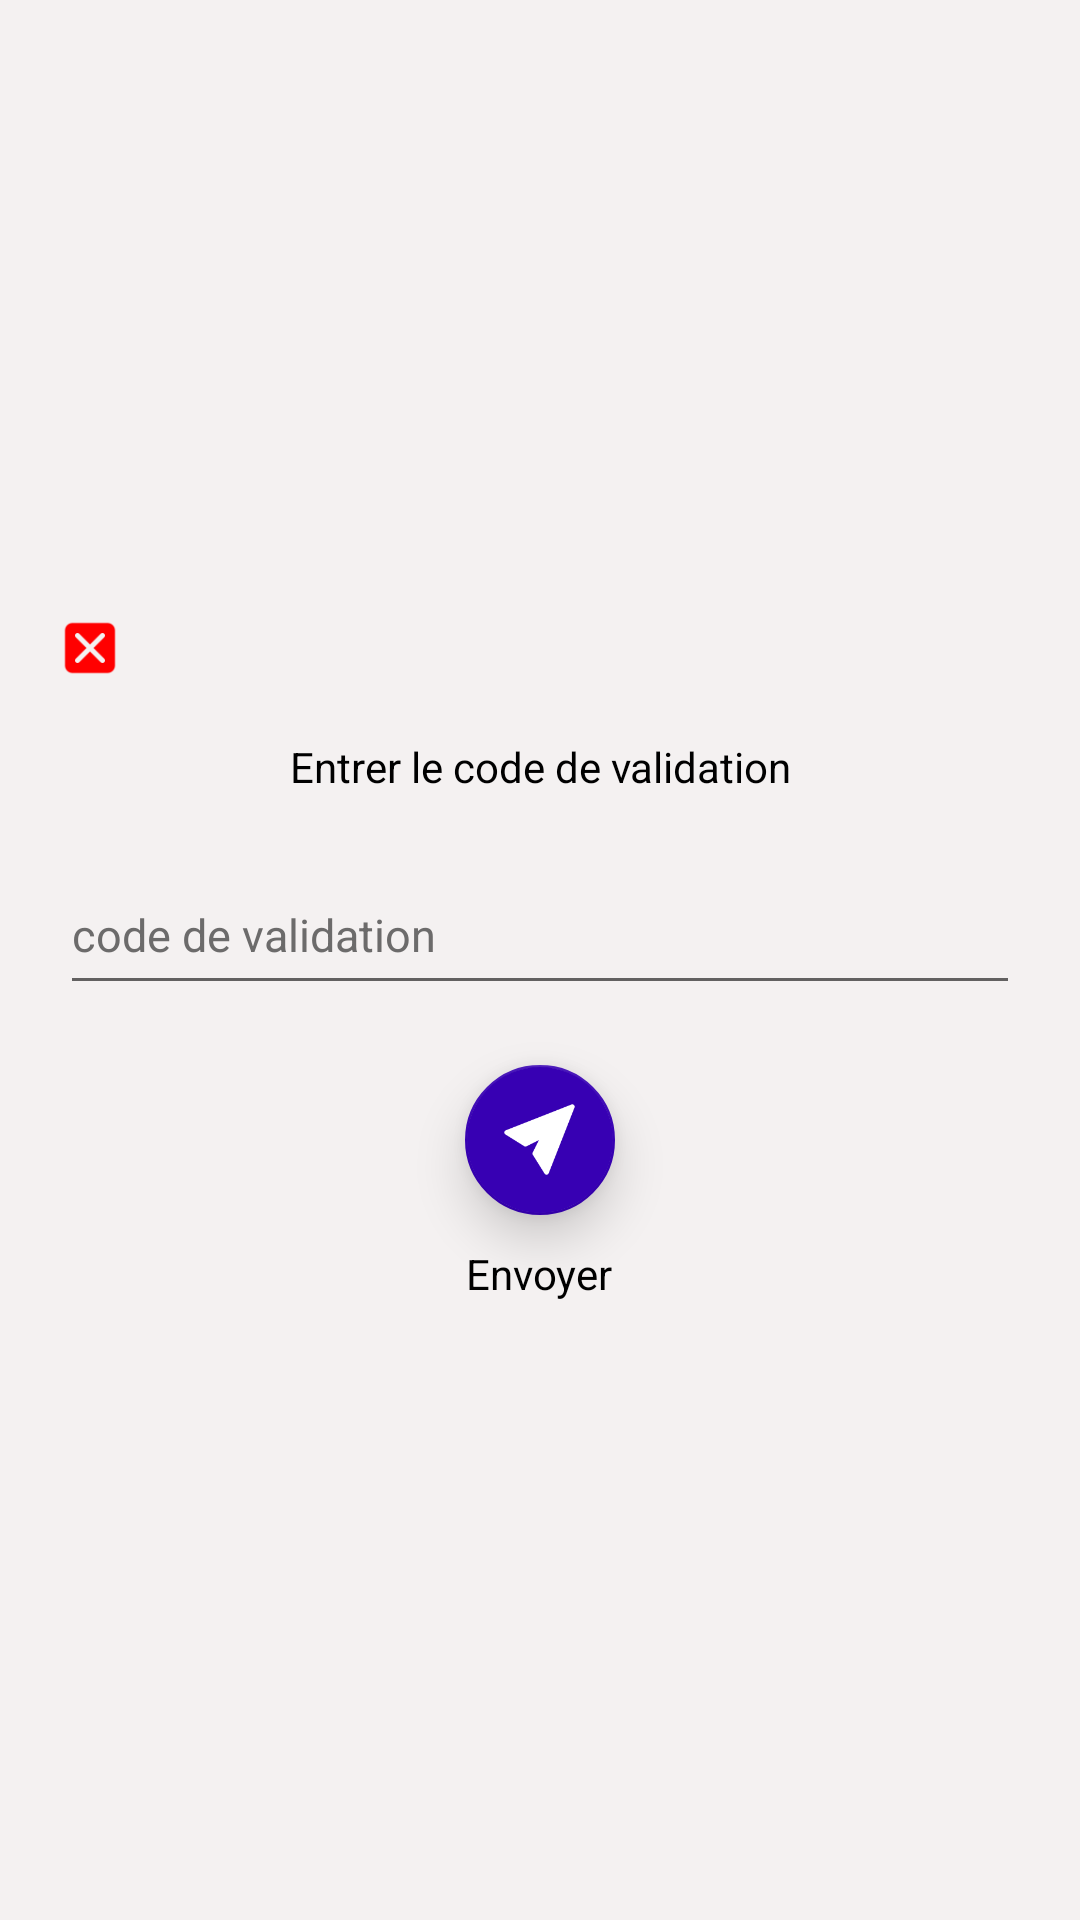

Where icons sit on this 1080×1920 app screen, as (x1, y1, x2, y2):
close option: (64, 622, 116, 674)
